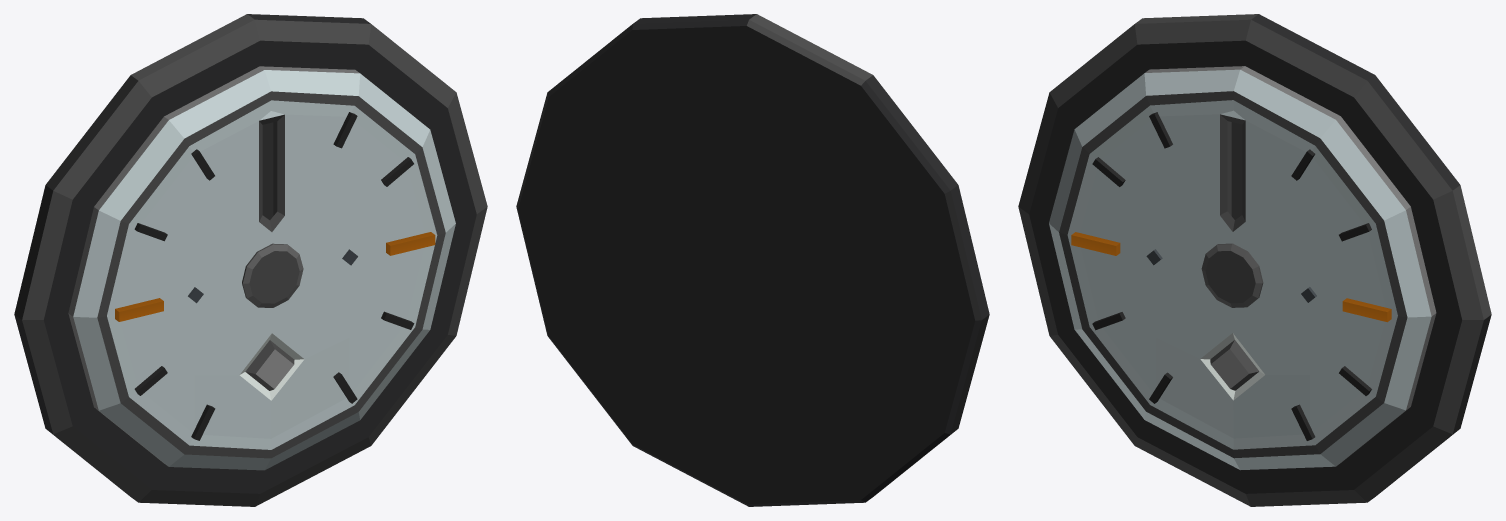
Rendered from Countdown_Timer_SciFi.glb.
The picture shows the model from 3 angles, left to right: view 1: azimuth 30°, elevation 25°; view 2: azimuth 150°, elevation 25°; view 3: azimuth 330°, elevation 25°; orthographic projection.
Parts seen in each view (by area): view 1: Pointer, SciFiTimerBase; view 2: SciFiTimerBase; view 3: Pointer, SciFiTimerBase.
Boxes of the visible parts, x1,y1,x2,y2 form: Pointer: (68,66,455,470); SciFiTimerBase: (14,14,487,506); SciFiTimerBase: (516,14,989,506); Pointer: (1049,66,1436,470); SciFiTimerBase: (1018,14,1491,506).
Size of the model in its own units: 2.45 by 2.45 by 0.2938.
2 materials, 2 textured.
